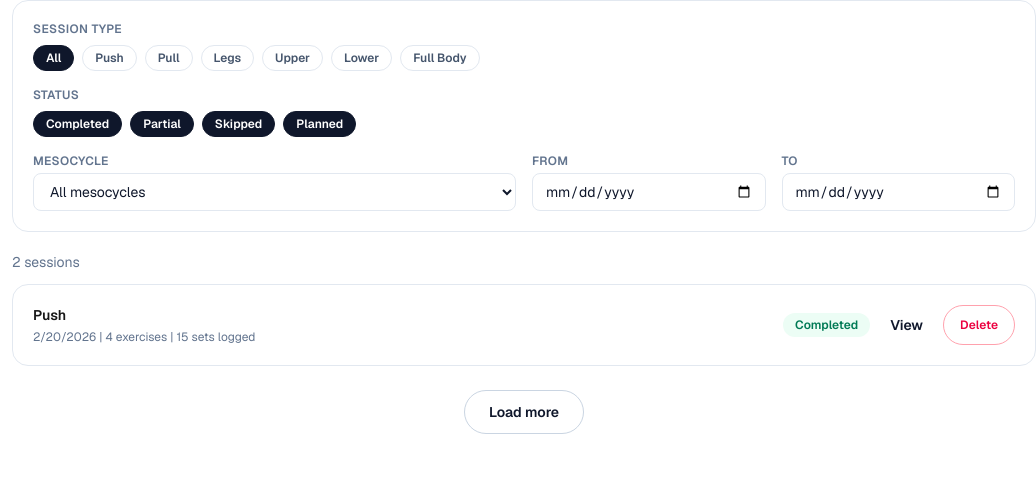
Scenario: HistoryClient › Load more appends results to existing list
What coordinates should you click on to do the following:
click the button "Load more"
I would click on:
 (524, 412)
Its box is x1=464 y1=390 x2=584 y2=434.
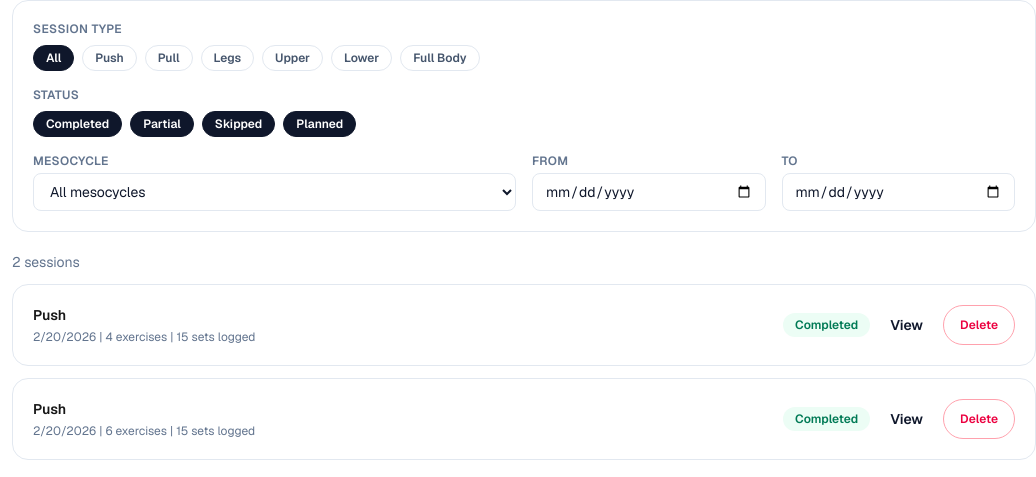
Expected: the text "2/20/2026 | 4 exercises | 15 sets logged" is shown, x1=33 y1=329 x2=255 y2=345
Result: the text "2/20/2026 | 6 exercises | 15 sets logged" is shown at x1=33 y1=423 x2=255 y2=439
